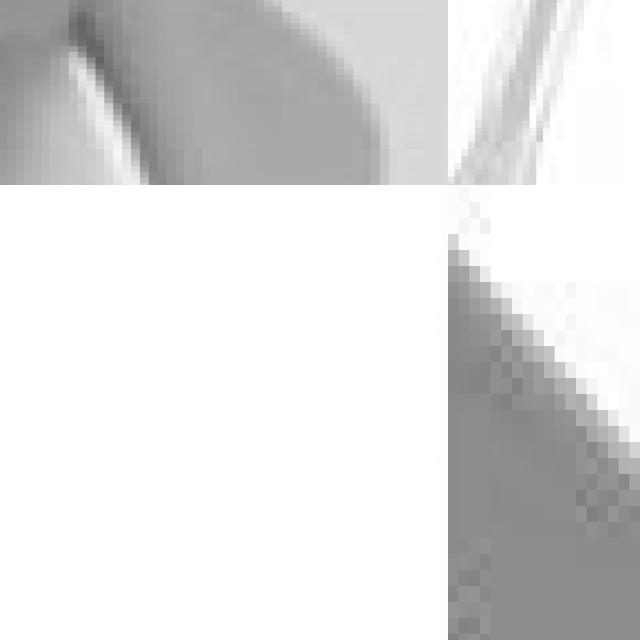spoons: (0, 0, 448, 185)
